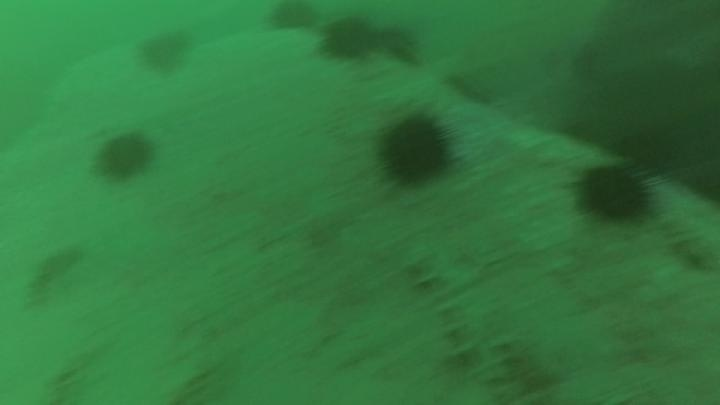echinus: (374, 110, 457, 190), (573, 161, 656, 226), (92, 128, 158, 185), (615, 123, 680, 176), (318, 14, 378, 64), (136, 27, 193, 75), (375, 22, 425, 68), (266, 1, 321, 37)
holothurian: (407, 244, 540, 394), (650, 174, 719, 274), (23, 242, 86, 310)
